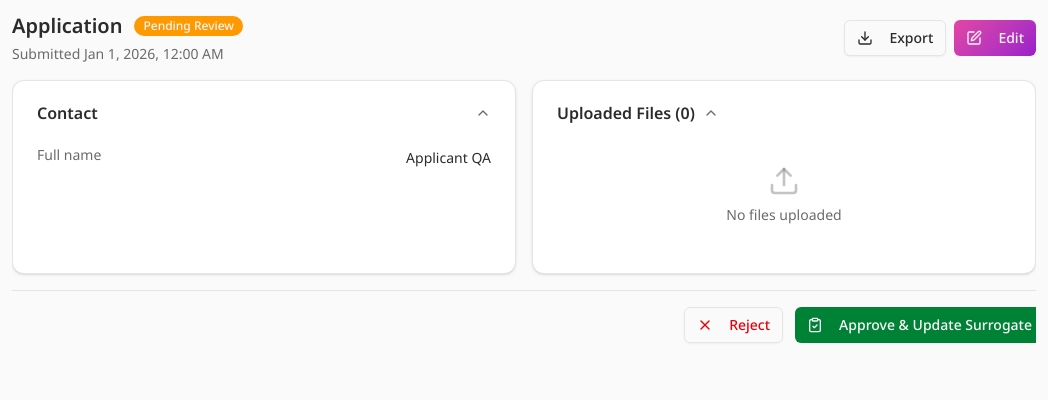
Test: SurrogateApplicationTab › keeps scoped read-only applications readable without review or edit controls
Expected: the text "Applicant QA" is shown, [406, 148, 491, 167]
Expected: the button "Export" is enabled, [844, 20, 946, 56]
Click the button "Edit": (995, 38) [954, 20, 1036, 56]
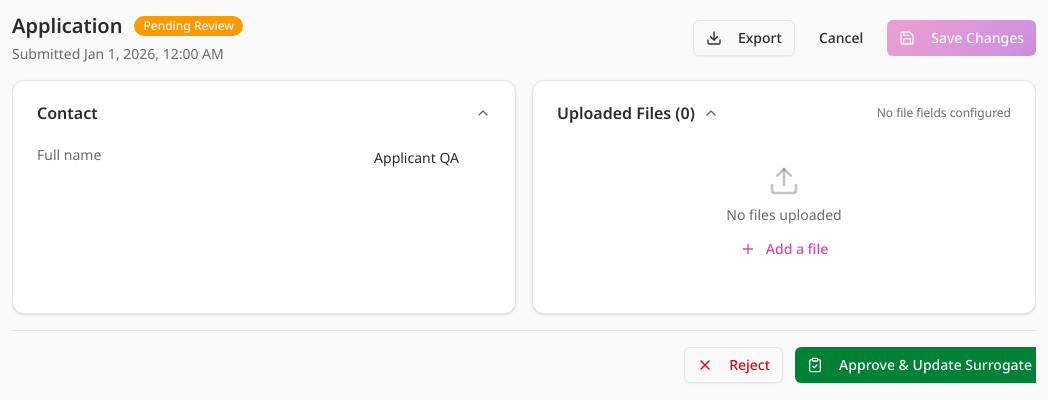
Expected: the button "Save Changes" is shown, [887, 20, 1036, 56]
